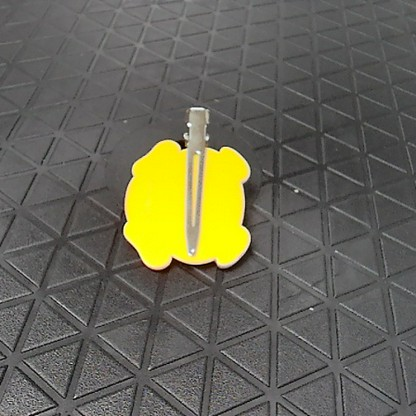dogclip: (119, 101, 253, 276)
